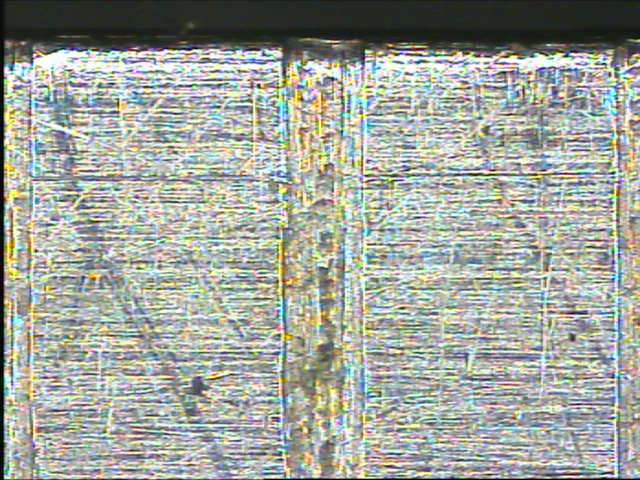line: (277, 34, 370, 471)
